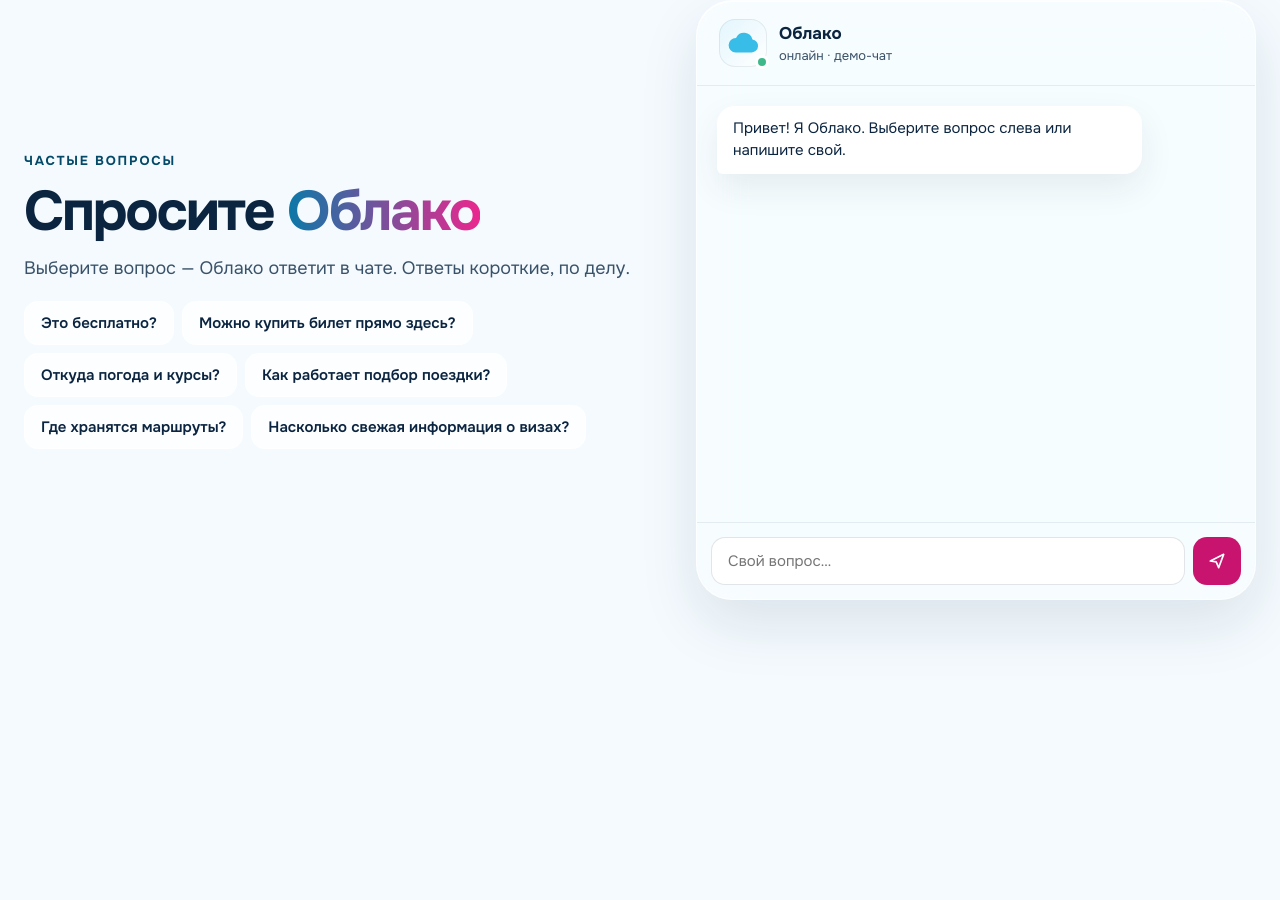
Test: FaqChat › gives the fallback answer to a custom question
Type "А в Антарктиду?" into the field labelled "Свой вопрос".
click(948, 561); type("А в Антарктиду?")  # box [711, 537, 1185, 585]
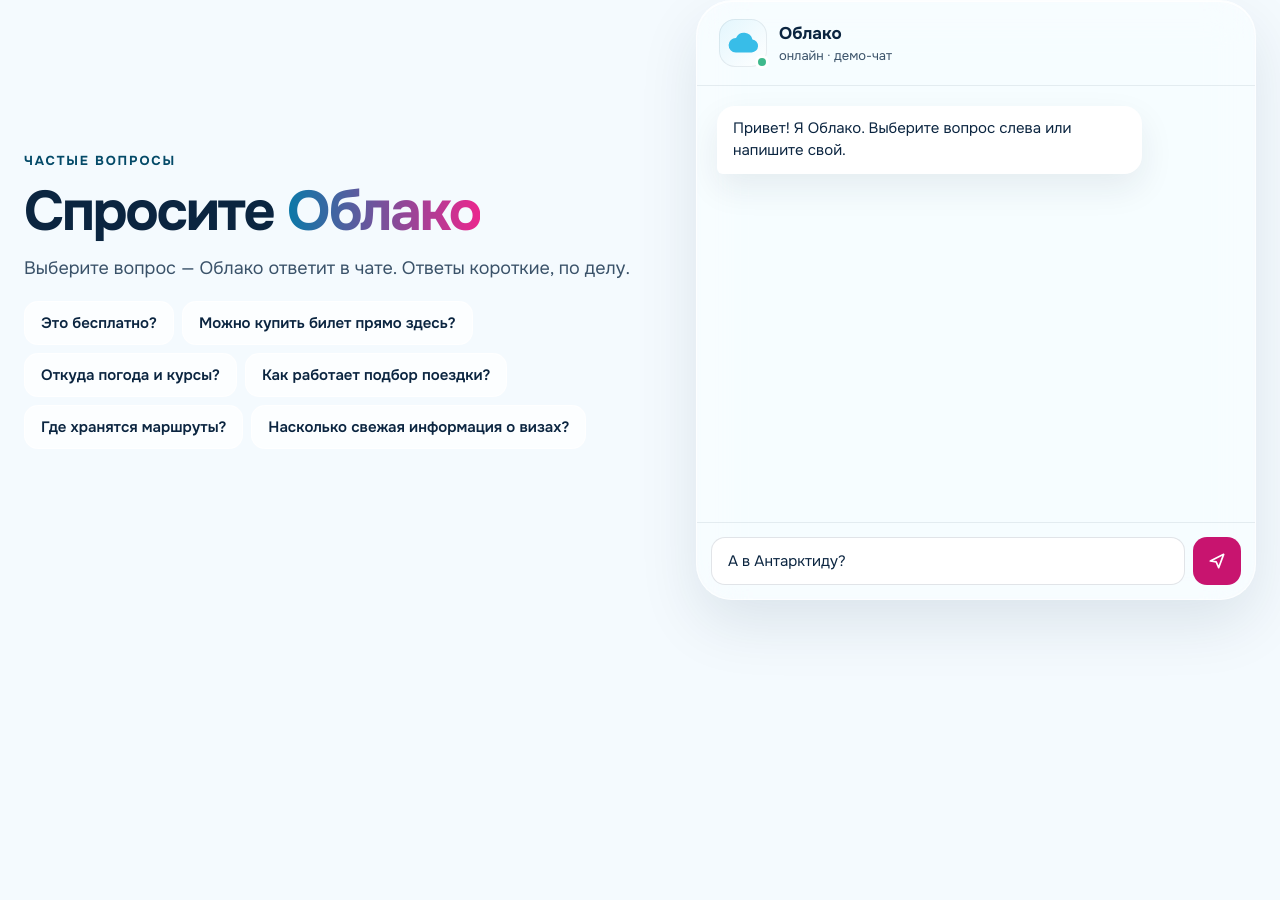
Click the button named "Отправить".
click(1217, 561)  # box [1193, 537, 1241, 585]
Wait 1200 ms
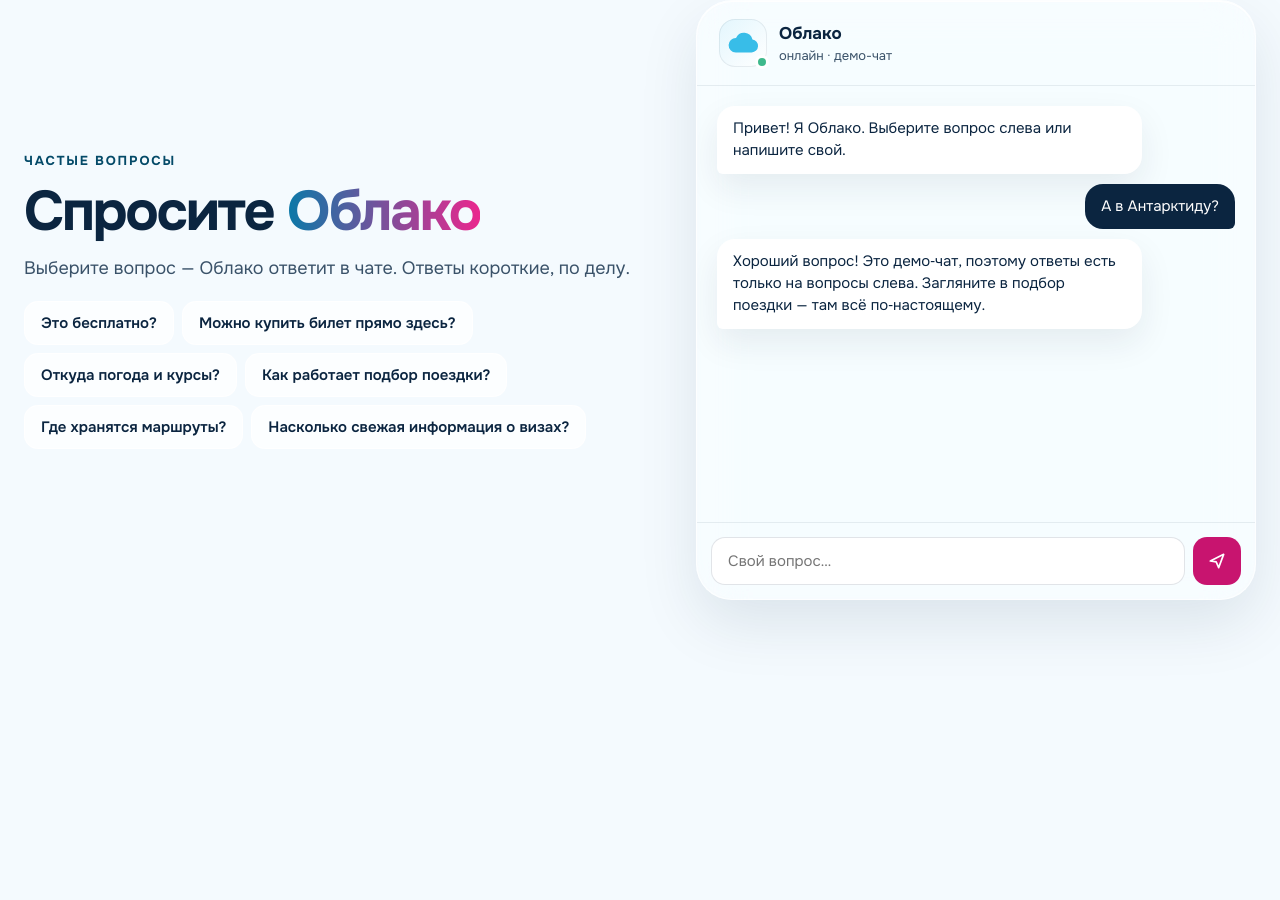
Now the element named "Переписка" shows "демо.чат", box [733, 251, 1116, 315]
